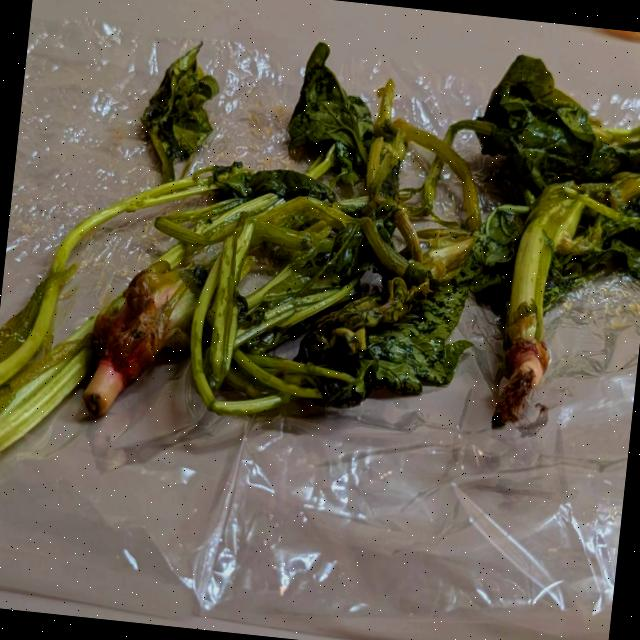rotten spinach: (0, 0, 640, 486), (0, 16, 480, 554), (287, 51, 640, 446), (454, 39, 640, 452), (42, 180, 304, 447)
